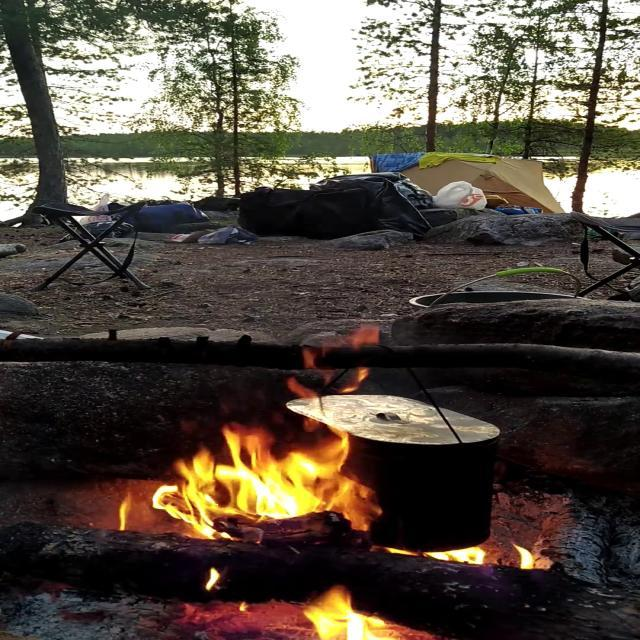Fire: (118, 416, 370, 546), (273, 577, 417, 639), (440, 542, 546, 577)
